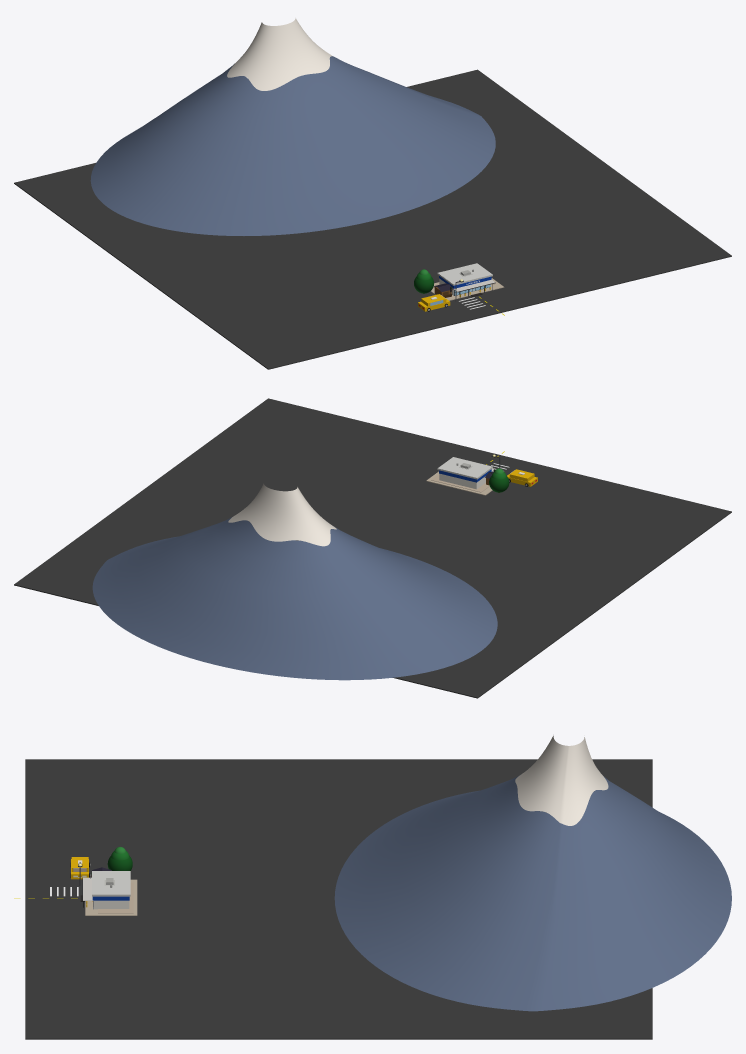
The model's file is LAWSON 富士河口湖町役場前店.glb.
3 renders of one model, top to bottom at view 1: azimuth 30°, elevation 25°; view 2: azimuth 150°, elevation 25°; view 3: azimuth 270°, elevation 25°, orthographic. The views are drawn at different scales.
Bounding box in the file's own units: 0.148 × 0.0403 × 0.1608.
